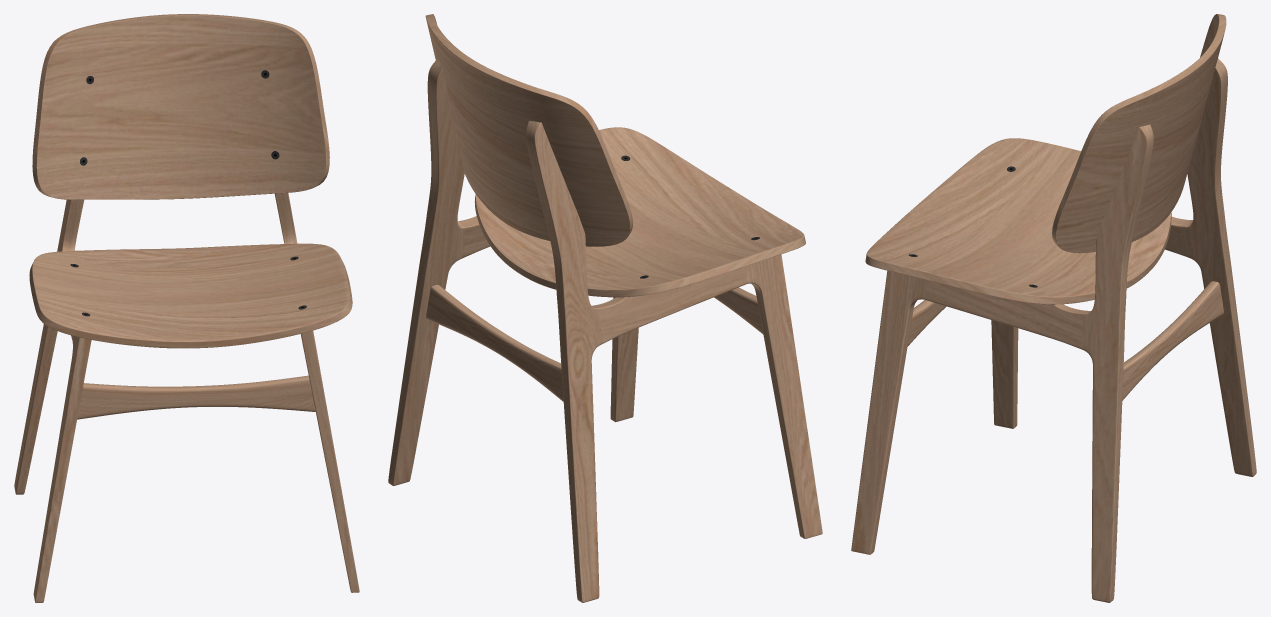
Rendered from design-chair-bake-2.glb.
3 renders of one model, left to right at view 1: azimuth 30°, elevation 25°; view 2: azimuth 150°, elevation 25°; view 3: azimuth 270°, elevation 25°, orthographic. The views are drawn at different scales.
Parts seen in each view (by area): view 1: Plane.001, Plane, Cube, Cube.001; view 2: Cube, Plane, Plane.001, Cube.002, Cube.001; view 3: Cube, Plane, Plane.001, Cube.002, Cube.001.
Part boxes in pixels (x1,y1,x2,y2): Plane.001: [32, 14, 329, 199]; Plane: [29, 243, 352, 348]; Cube: [14, 193, 359, 602]; Cube.001: [77, 375, 315, 419]; Cube: [388, 59, 822, 602]; Plane: [474, 127, 805, 297]; Plane.001: [425, 14, 632, 246]; Cube.002: [426, 285, 563, 401]; Cube.001: [714, 287, 763, 334]; Cube: [851, 58, 1256, 602]; Plane: [865, 138, 1171, 304]; Plane.001: [1052, 14, 1226, 253]; Cube.002: [1122, 281, 1223, 400]; Cube.001: [907, 300, 946, 346].
Bounding box in the file's own units: 0.64 × 0.7898 × 0.6034.
Materials: 3 (1 with a texture image).
